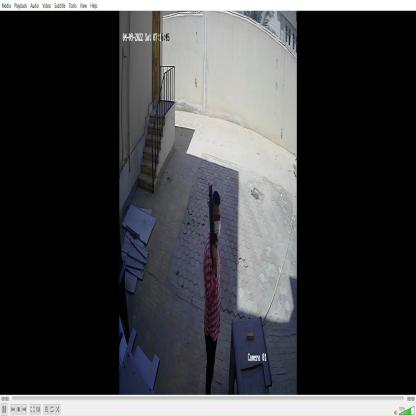handgun: (204, 177, 224, 287)
